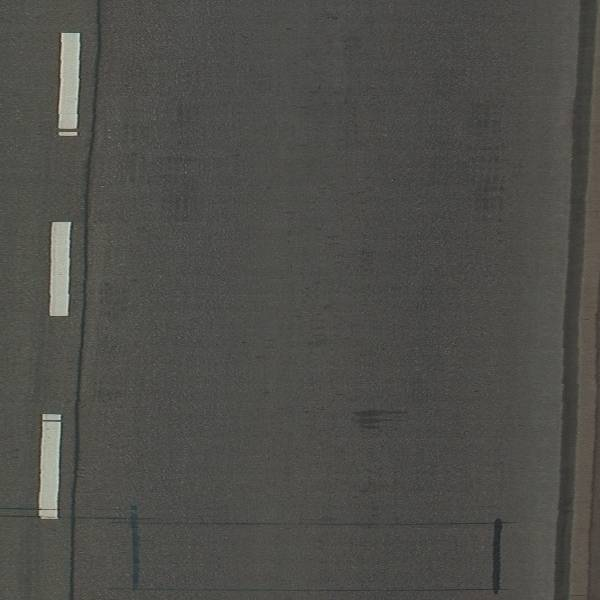road_damage: (116, 498, 508, 600)
